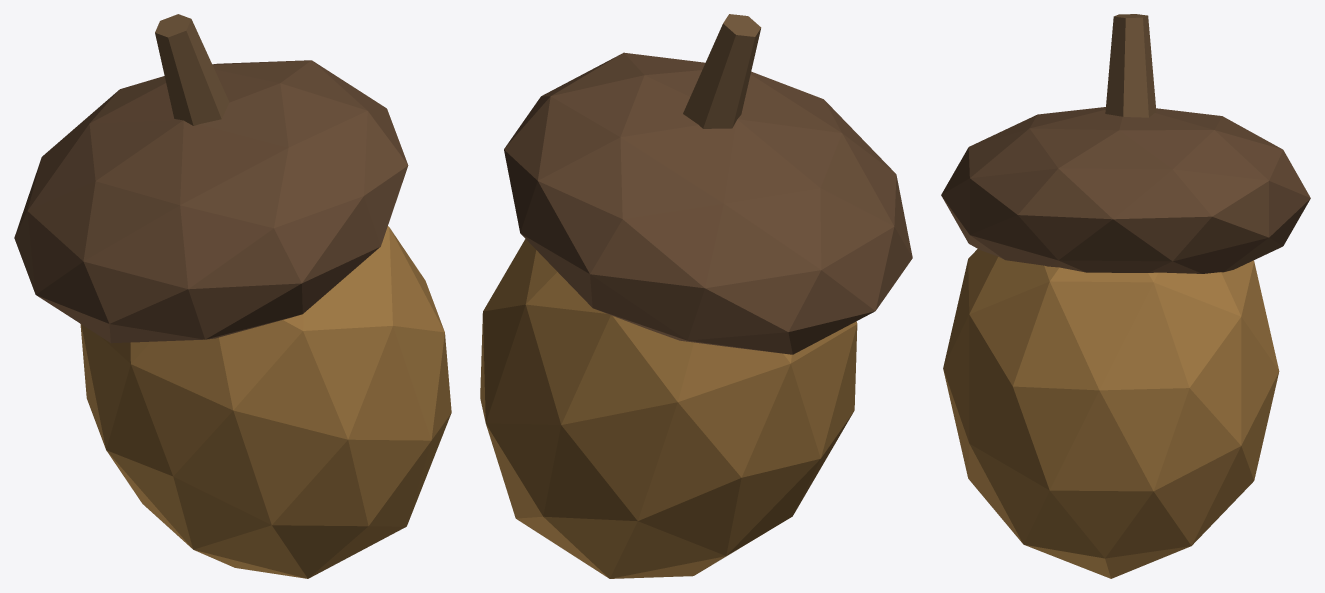
The model's file is pile-treeSeed-1.gltf.
3 renders of one model, left to right at view 1: azimuth 30°, elevation 25°; view 2: azimuth 150°, elevation 25°; view 3: azimuth 270°, elevation 25°, orthographic. The views are drawn at different scales.
Parts seen in each view (by area): view 1: pile-treeSeed-1; view 2: pile-treeSeed-1; view 3: pile-treeSeed-1.
Boxes of the visible parts, bbox=[...] form: pile-treeSeed-1: bbox=[14, 14, 451, 578]; pile-treeSeed-1: bbox=[480, 14, 912, 578]; pile-treeSeed-1: bbox=[941, 14, 1310, 578].
Size of the model in its own units: 0.2312 by 0.33 by 0.2195.
